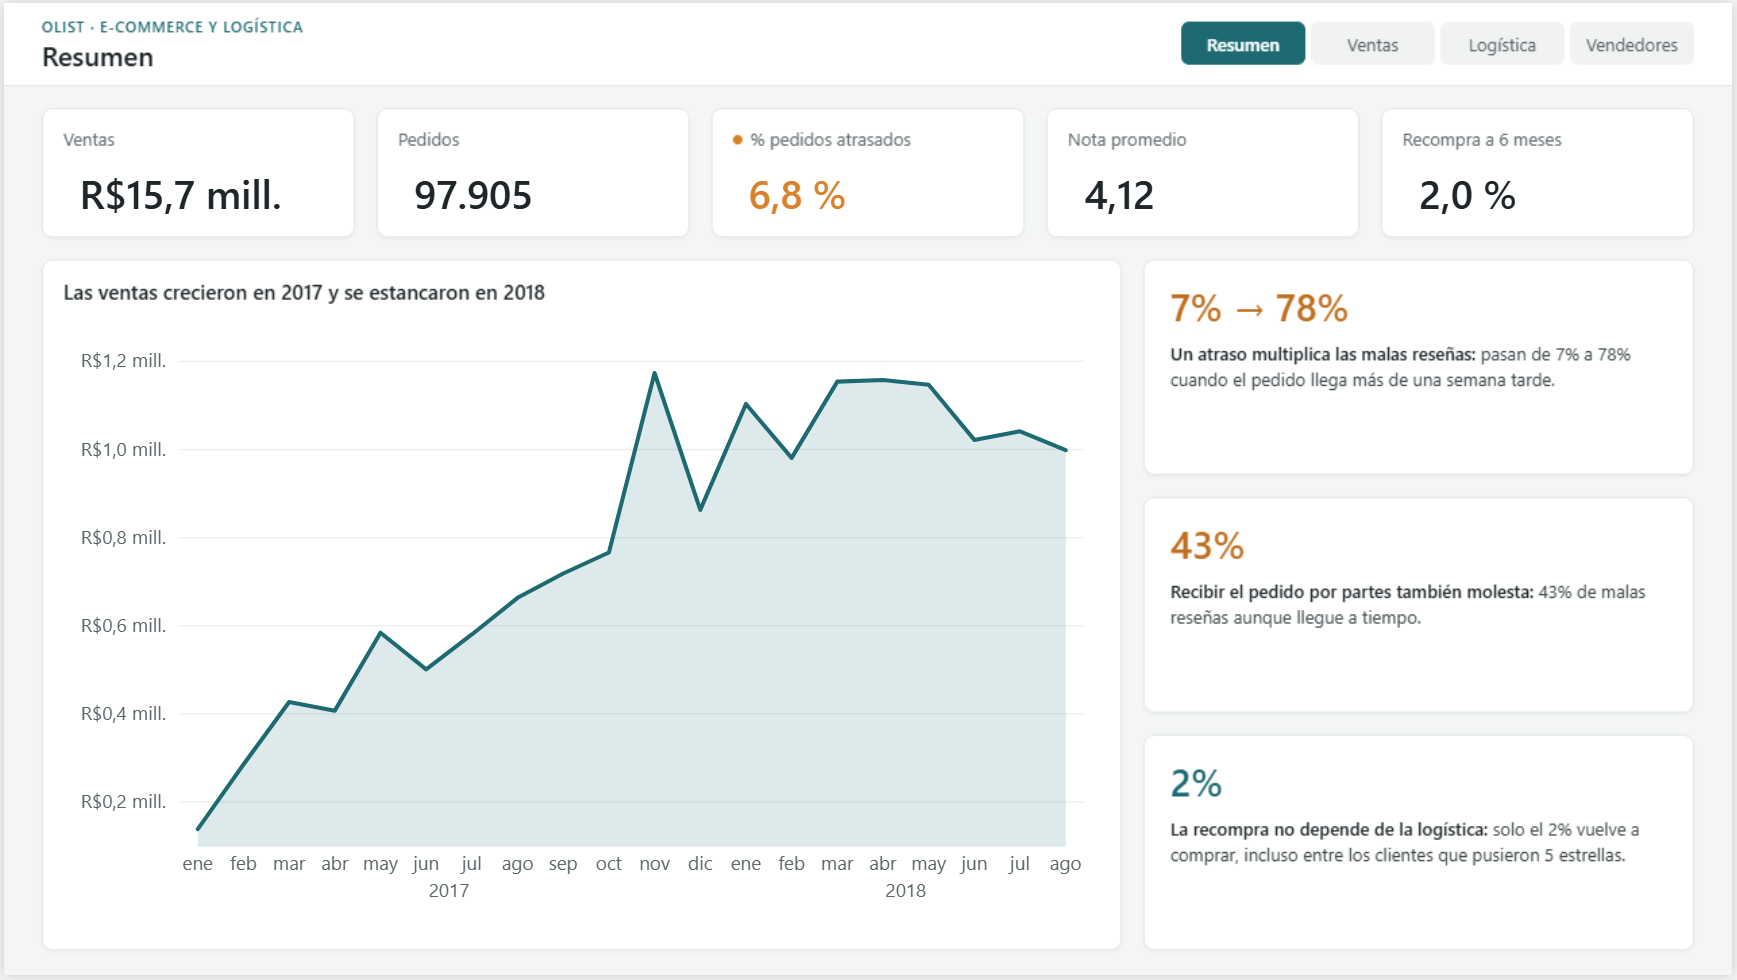

What the dashboard file says about the page in this screenshot:
{"tool":"powerbi","page":{"name":"Resumen","canvas":[1280,720],"ordinal":0},"visuals":[{"type":"cardVisual","fields":{"Data":["_Medidas.Ventas"]},"box":[40,116,208,50],"z":0},{"type":"lineChart","title":"Las ventas crecieron en 2017 y se estancaron en 2018","fields":{"Category":["dim_fecha.Año","dim_fecha.Mes corto"],"Y":["_Medidas.Ventas"]},"box":[40,240,776,452],"z":1000},{"type":"cardVisual","fields":{"Data":["_Medidas.Pedidos"]},"box":[288,116,208,50],"z":2000},{"type":"cardVisual","fields":{"Data":["_Medidas.% Atrasados"]},"box":[536,116,208,50],"z":3000},{"type":"cardVisual","fields":{"Data":["_Medidas.Nota promedio"]},"box":[784,116,208,50],"z":4000},{"type":"cardVisual","fields":{"Data":["_Medidas.% Recompra"]},"box":[1032,116,208,50],"z":5000},{"type":"actionButton","box":[871.4,12.9,92.9,32.9],"z":6000},{"type":"actionButton","box":[967.1,12.9,92.9,32.9],"z":7000},{"type":"actionButton","box":[1064.3,12.9,92.9,32.9],"z":8000},{"type":"actionButton","box":[1158.6,12.9,92.9,32.9],"z":9000}]}

Visuals, with their boxes in screenshot pixels (x1, y1, x2, y2), scaled from the page's 1280x720 canvas onto the 1737x980 screenshot:
cardVisual - _Medidas.Ventas: {"x1": 54, "y1": 158, "x2": 337, "y2": 226}
"Las ventas crecieron en 2017 y se estancaron en 2018" lineChart: {"x1": 54, "y1": 327, "x2": 1107, "y2": 942}
cardVisual - _Medidas.Pedidos: {"x1": 391, "y1": 158, "x2": 673, "y2": 226}
cardVisual - _Medidas.% Atrasados: {"x1": 727, "y1": 158, "x2": 1010, "y2": 226}
cardVisual - _Medidas.Nota promedio: {"x1": 1064, "y1": 158, "x2": 1346, "y2": 226}
cardVisual - _Medidas.% Recompra: {"x1": 1400, "y1": 158, "x2": 1683, "y2": 226}
actionButton: {"x1": 1183, "y1": 18, "x2": 1309, "y2": 62}
actionButton: {"x1": 1312, "y1": 18, "x2": 1438, "y2": 62}
actionButton: {"x1": 1444, "y1": 18, "x2": 1570, "y2": 62}
actionButton: {"x1": 1572, "y1": 18, "x2": 1698, "y2": 62}
